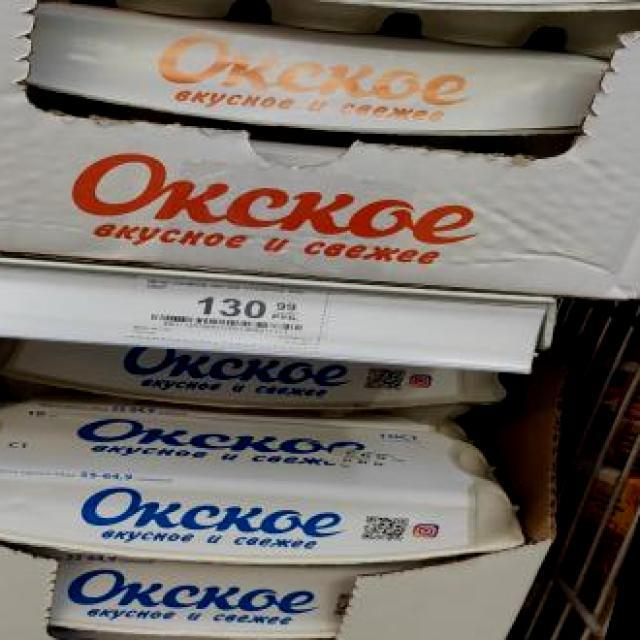egg: (0, 392, 555, 582), (0, 324, 510, 434), (42, 551, 364, 640)
